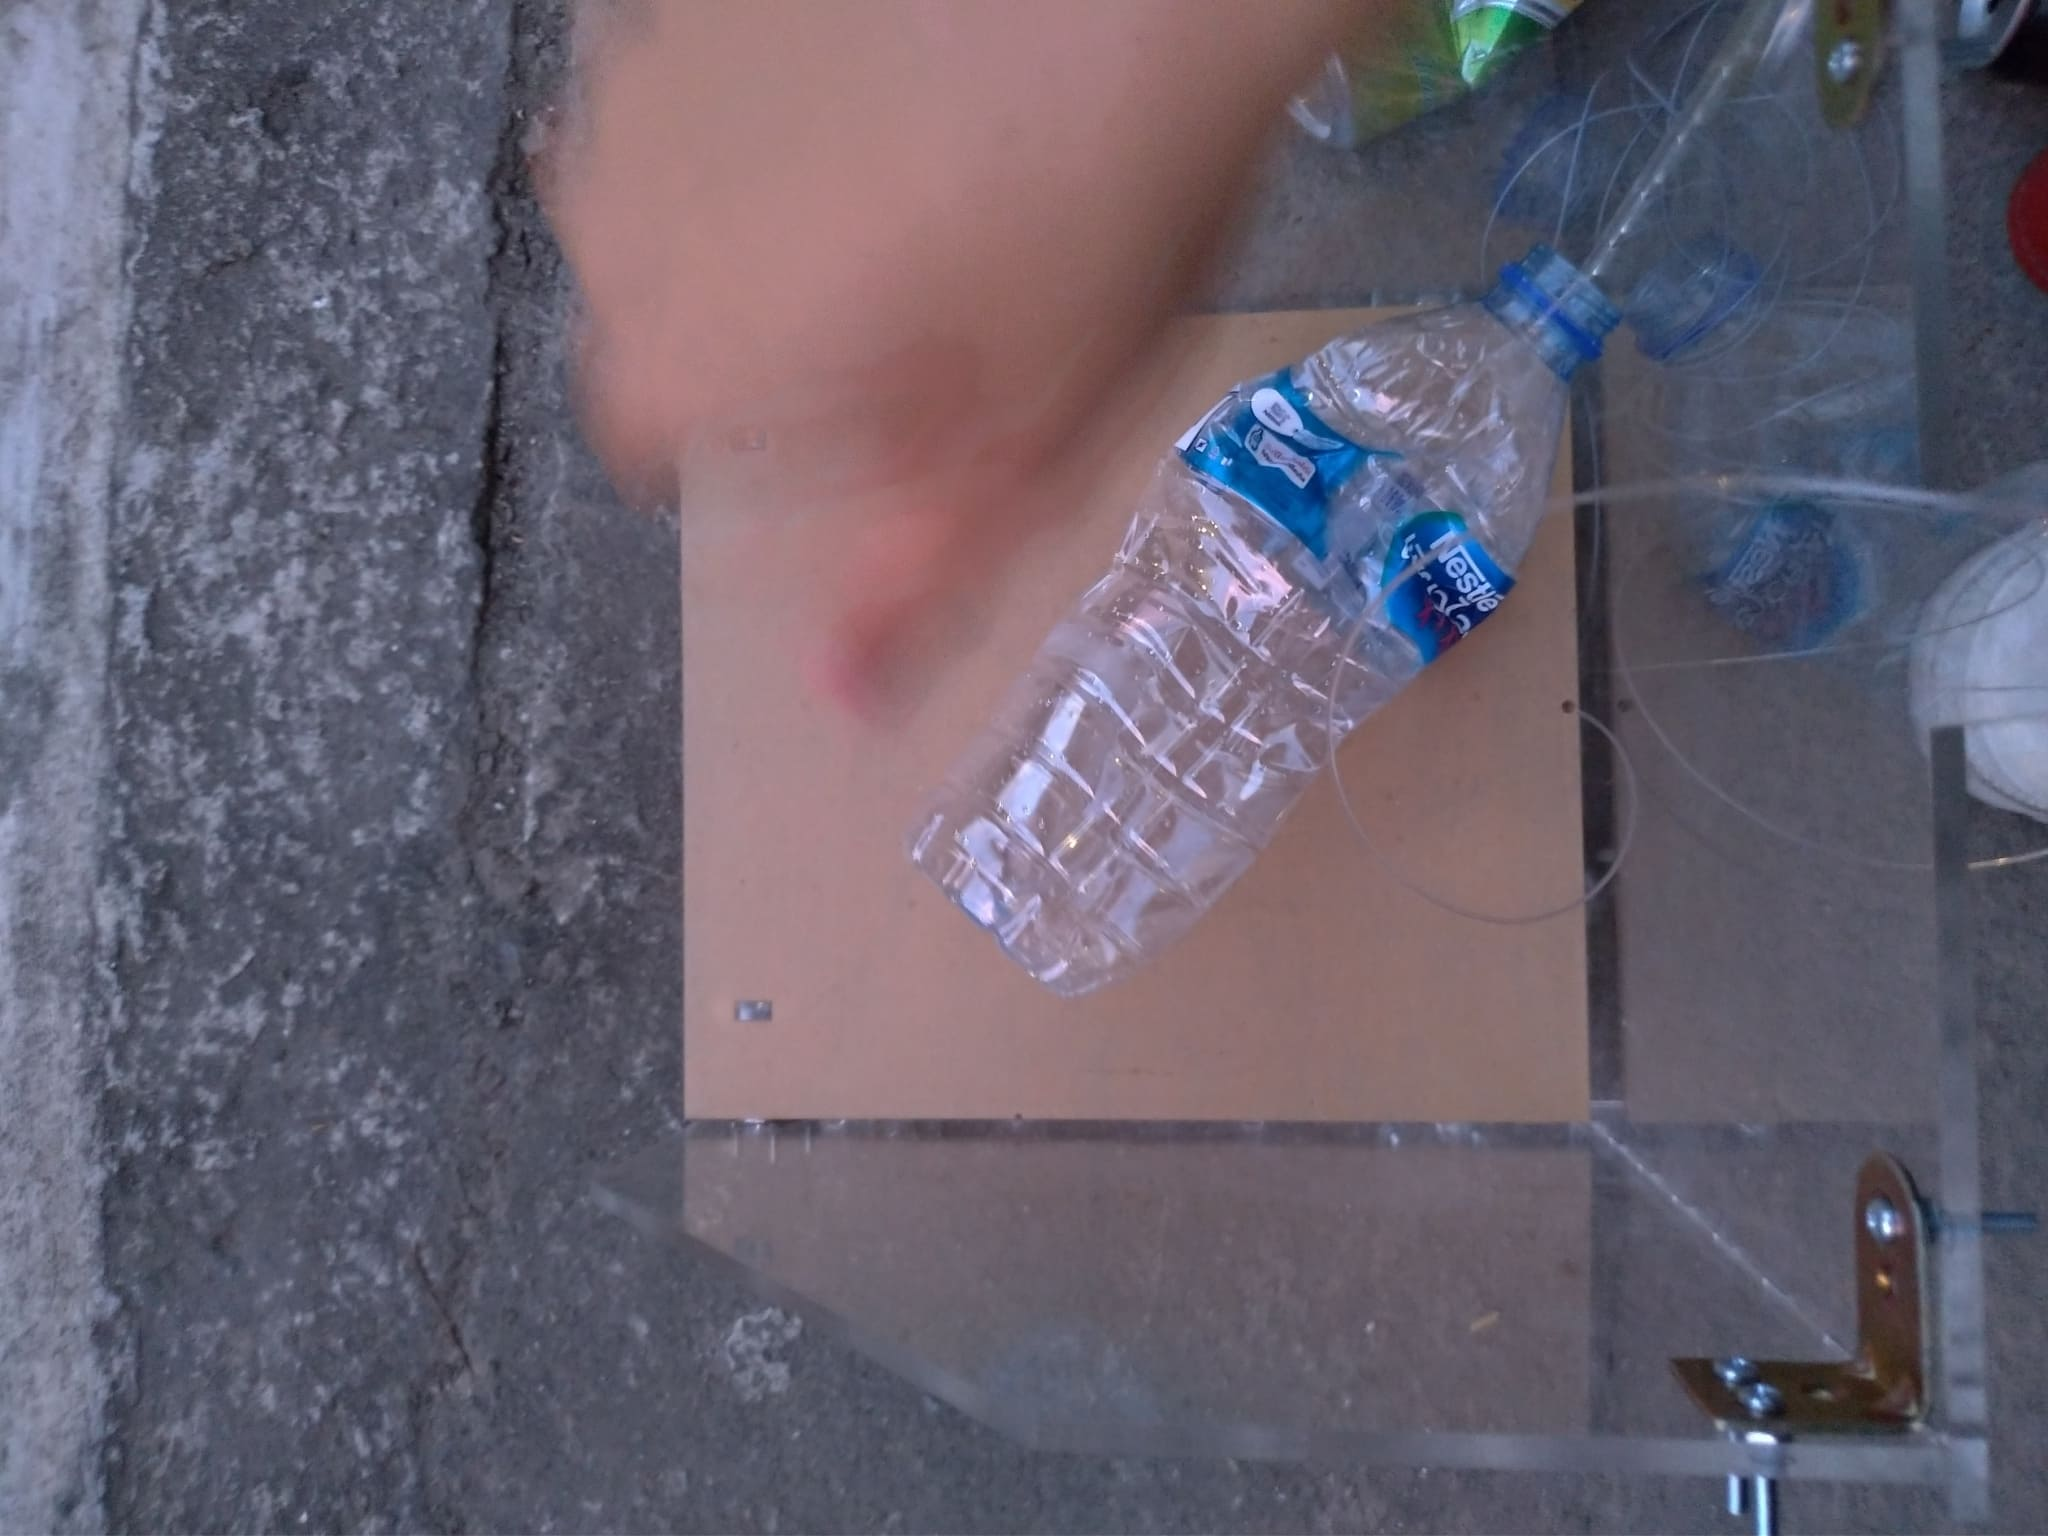PlasticBottle: (905, 248, 1625, 995)
